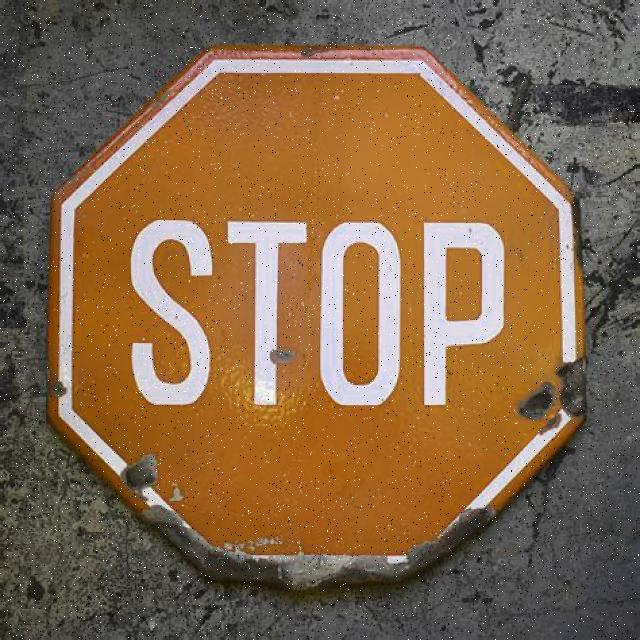stop: (55, 39, 582, 581)
